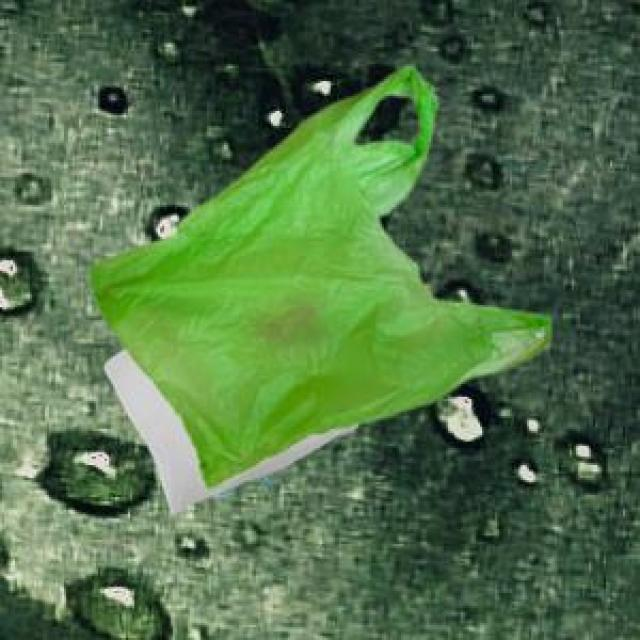plastic: (75, 47, 574, 529)
